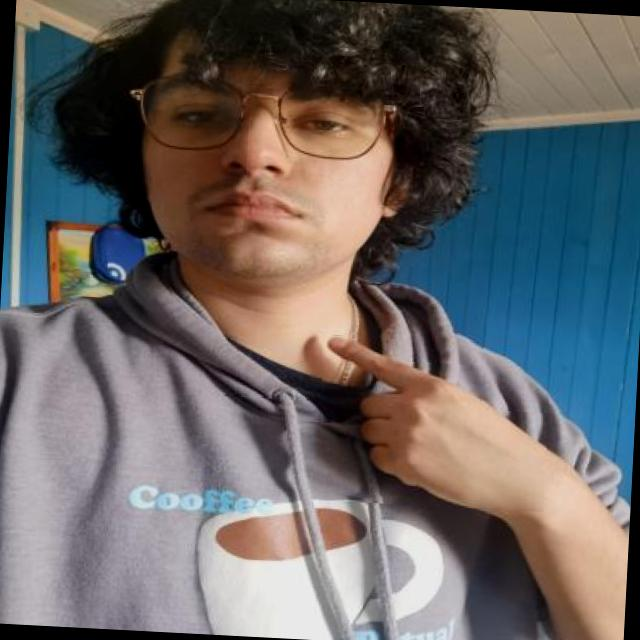Q: (315, 333, 552, 512)
